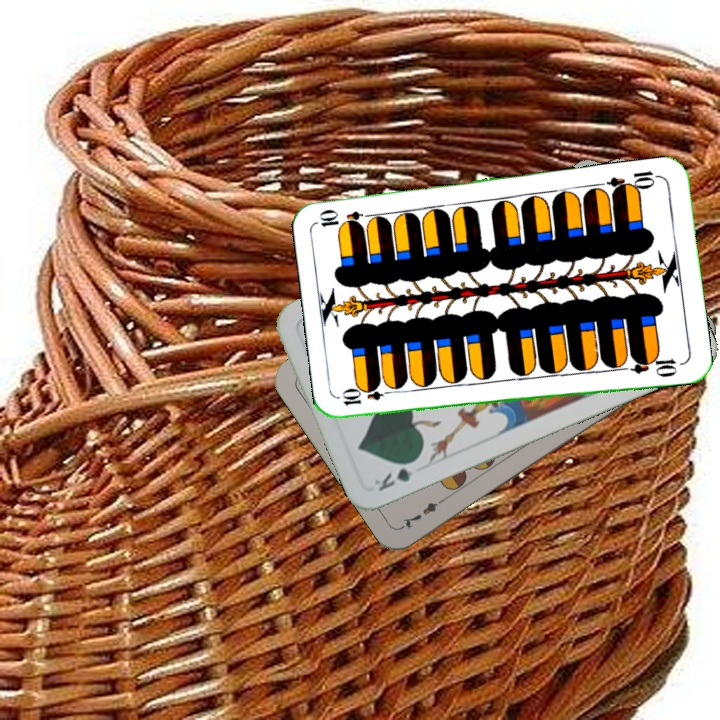E10: (604, 166, 663, 197), (338, 384, 397, 408)
E7: (398, 492, 450, 531)
GK: (370, 455, 422, 494)
